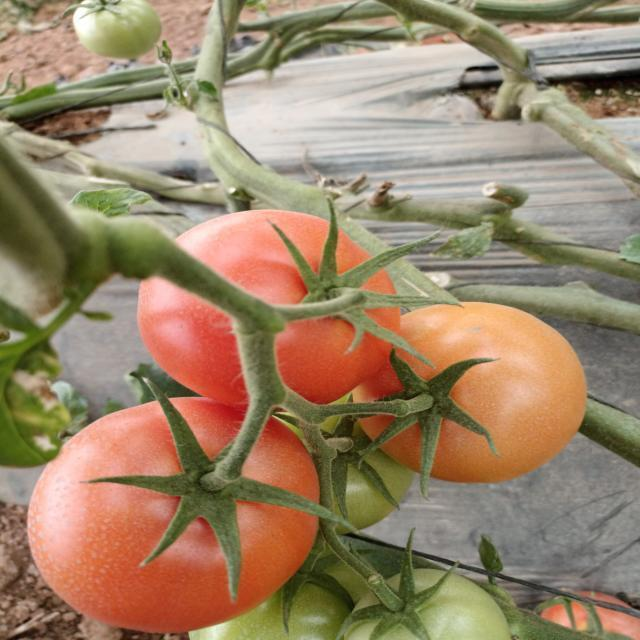Ripe Tomato: (22, 406, 327, 632), (137, 206, 416, 409), (352, 293, 583, 484), (536, 582, 632, 634)
Unripe Tomato: (298, 410, 417, 526), (342, 564, 506, 640), (186, 566, 340, 638), (74, 2, 166, 52)
